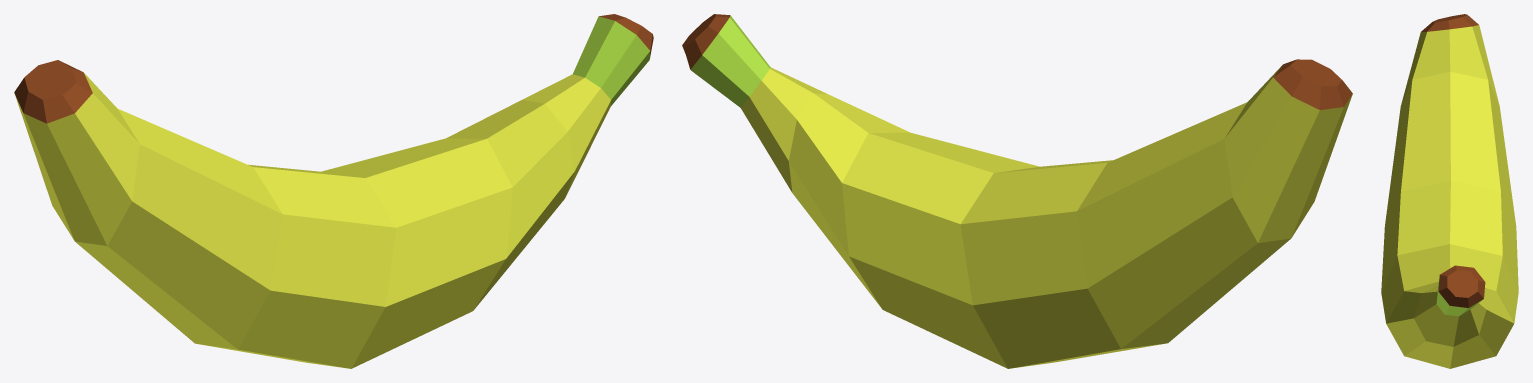
File: banana.glb
3 renders of one model, left to right at view 1: azimuth 30°, elevation 25°; view 2: azimuth 150°, elevation 25°; view 3: azimuth 270°, elevation 25°, orthographic. The views are drawn at different scales.
Visible parts, largest first — view 1: banana_01; view 2: banana_01; view 3: banana_01.
Boxes of the visible parts, <box> form: banana_01: <box>14,14,653,368</box>; banana_01: <box>682,14,1352,368</box>; banana_01: <box>1381,14,1518,368</box>.
Bounding box in the file's own units: 4.11 × 2.19 × 1.12.
